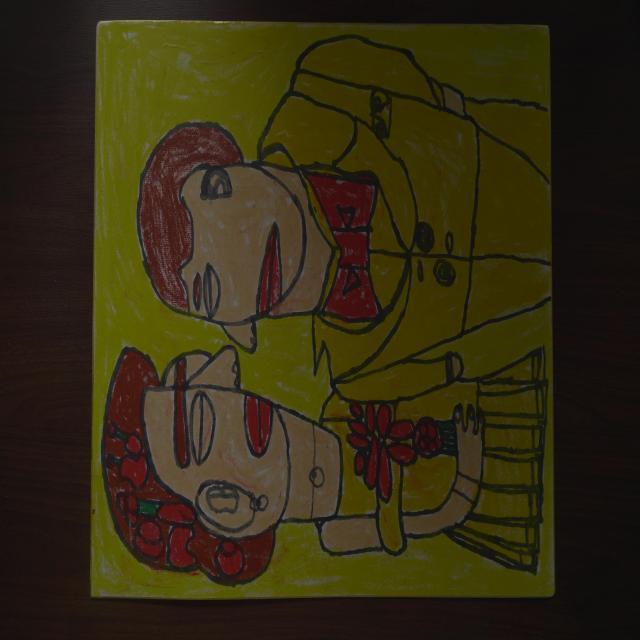painting: (92, 23, 553, 596)
